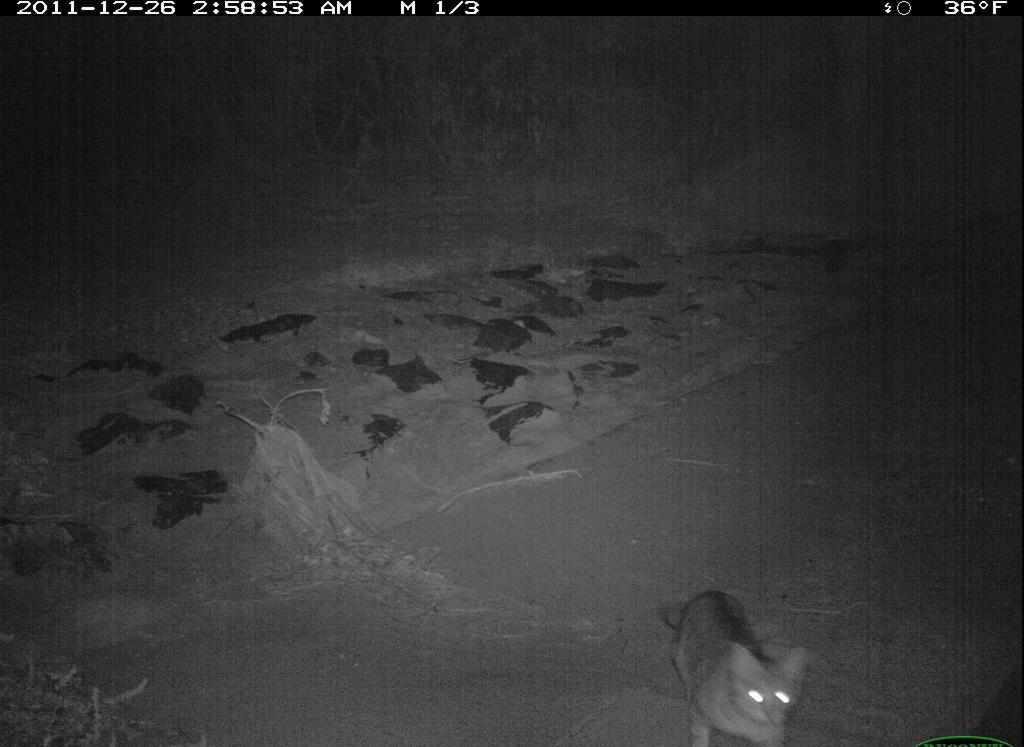cat: (651, 566, 815, 747)
